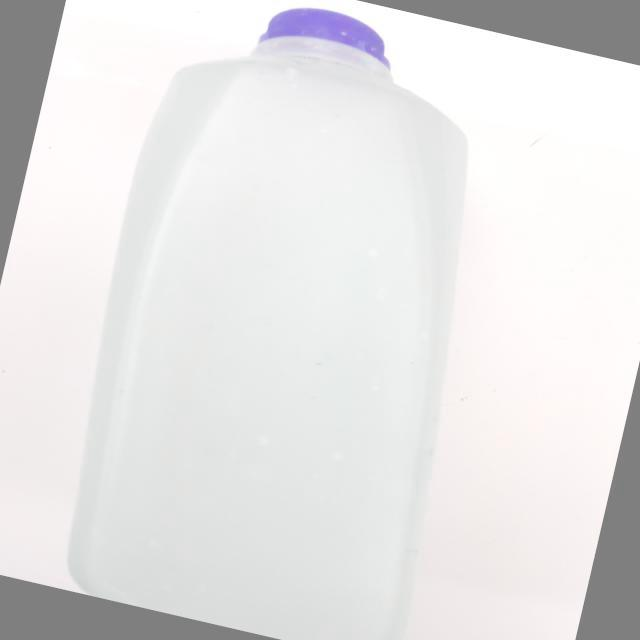plastic: (0, 0, 588, 640)
